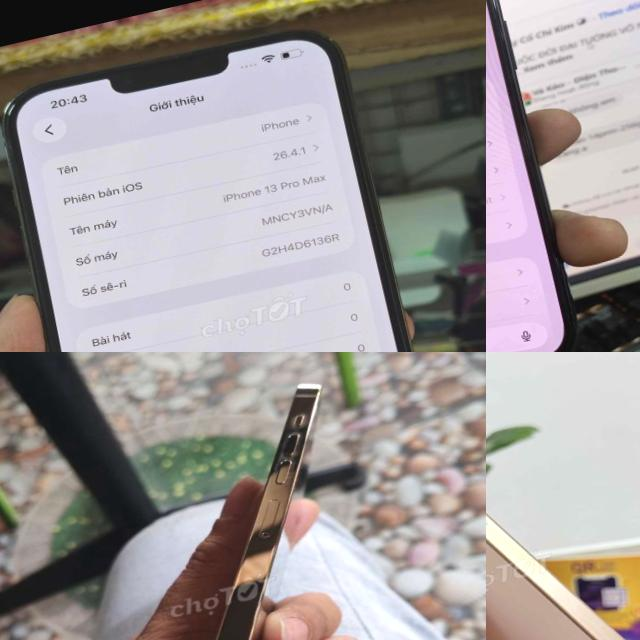gen_12_13: (0, 6, 470, 352), (75, 371, 427, 640)
gen_15: (486, 0, 591, 352)
gen_16: (486, 510, 626, 640)
